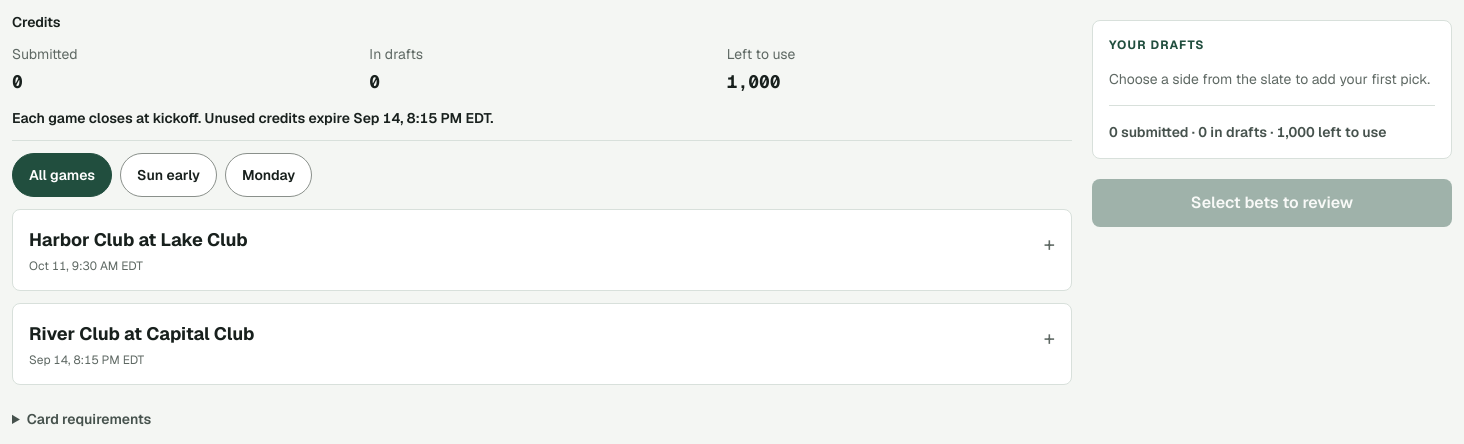
Scenario: rolling member submission flow › offers Sun early only when that window is in the slate
The image size is (1464, 444).
Click the button "Sun early".
click(168, 175)  # box [120, 153, 217, 197]
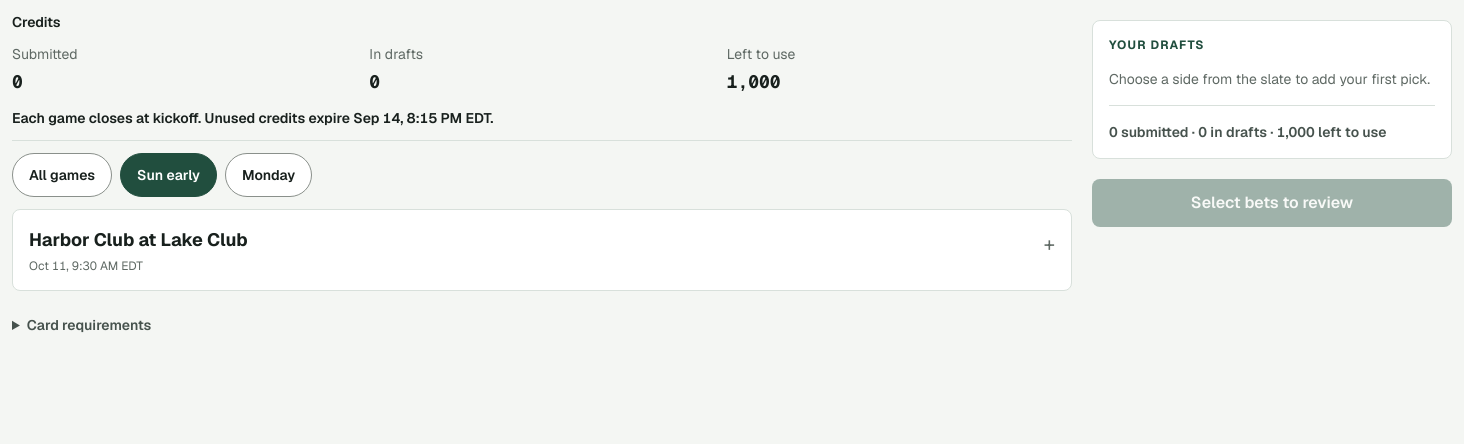
Expected: the element "Harbor Club at Lake Club" is shown, [12, 209, 1072, 291]
Now the heading "River Club at Capital Club" is gone
